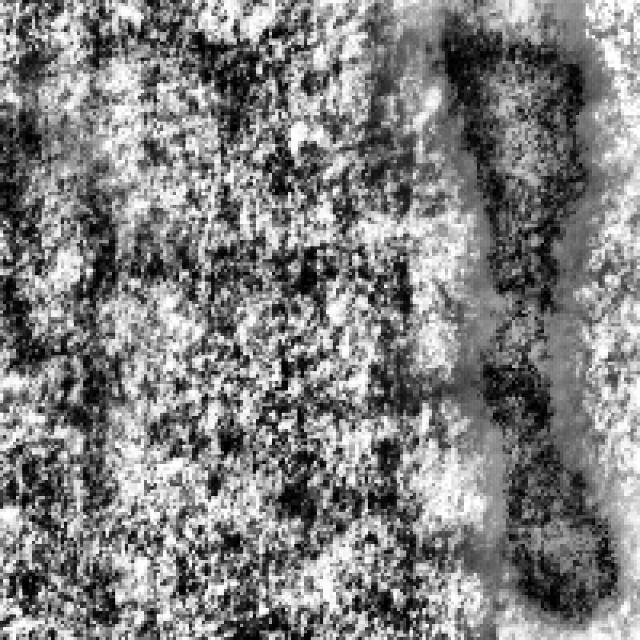Scratches: (428, 0, 611, 614)
